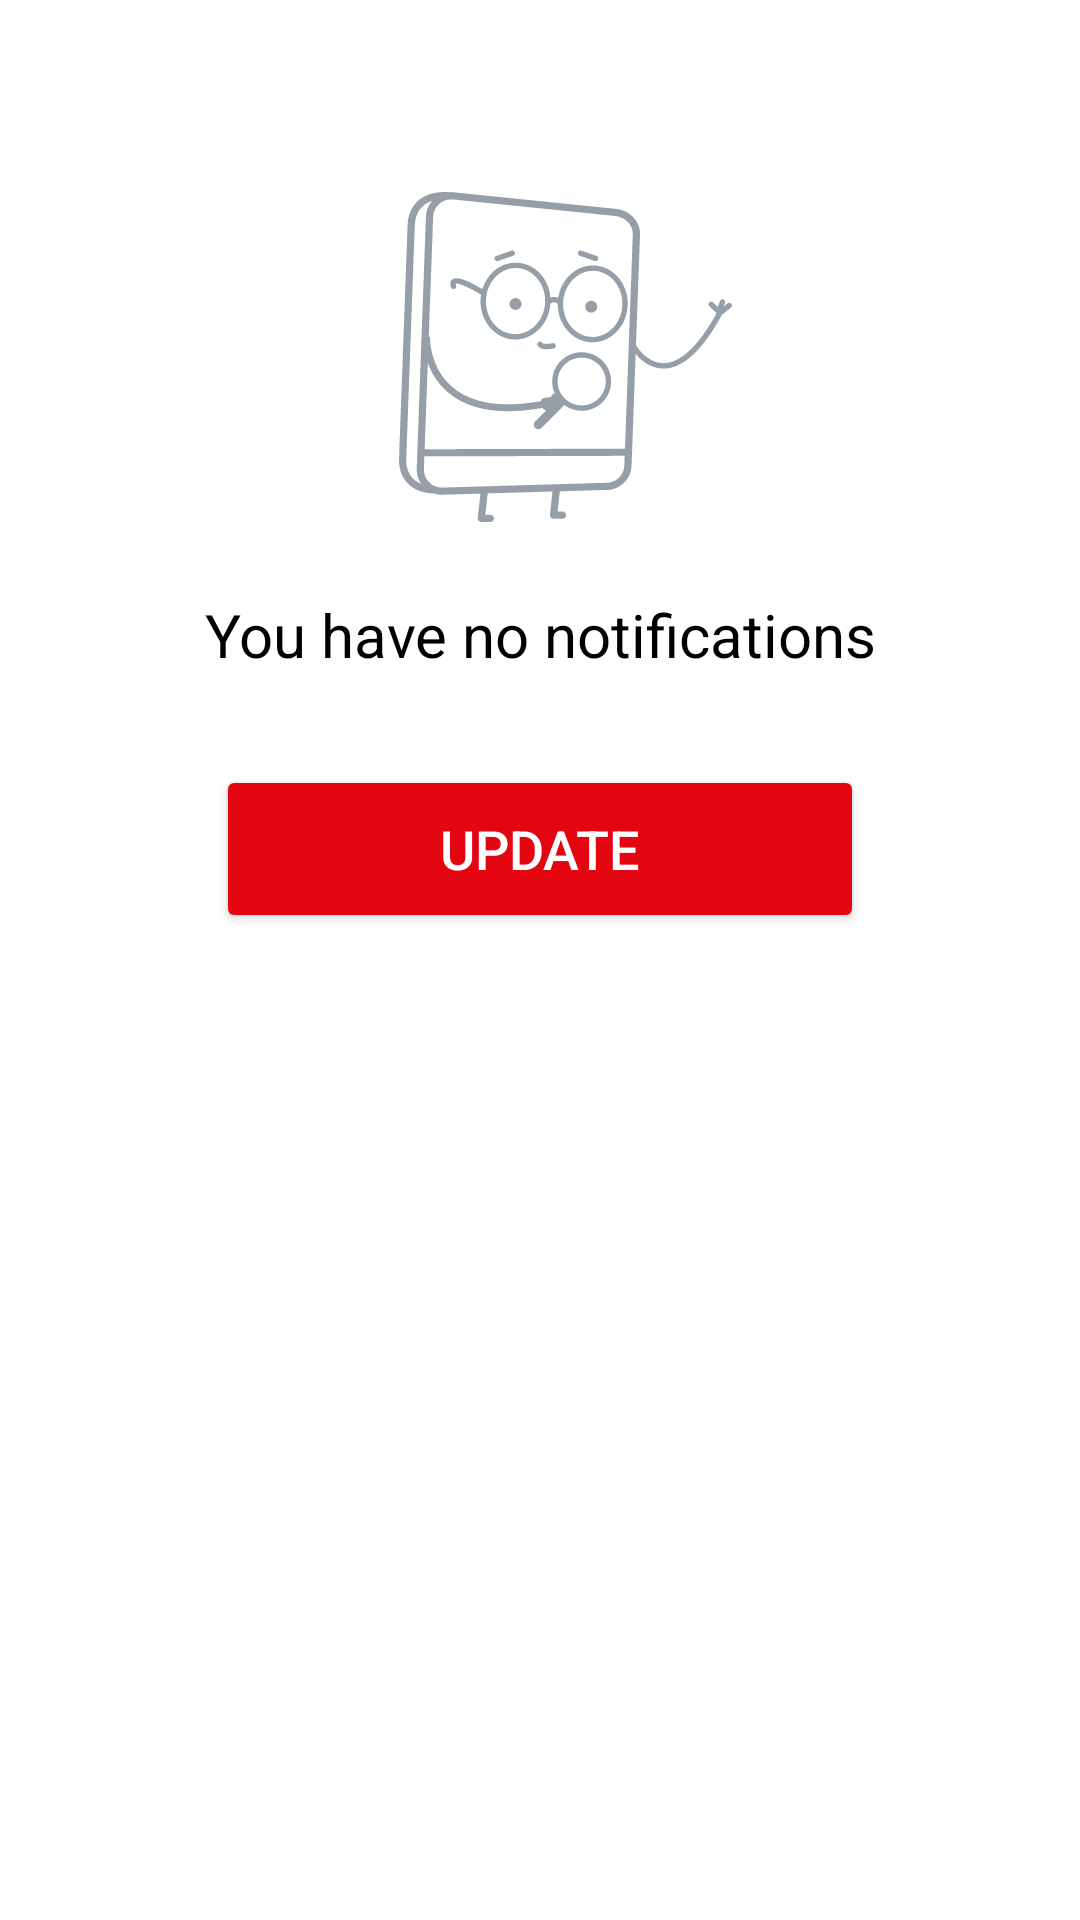

Screen size 1080 × 1920. Icon name, then its center in pixels as (x,y):
not found: (565,357)
